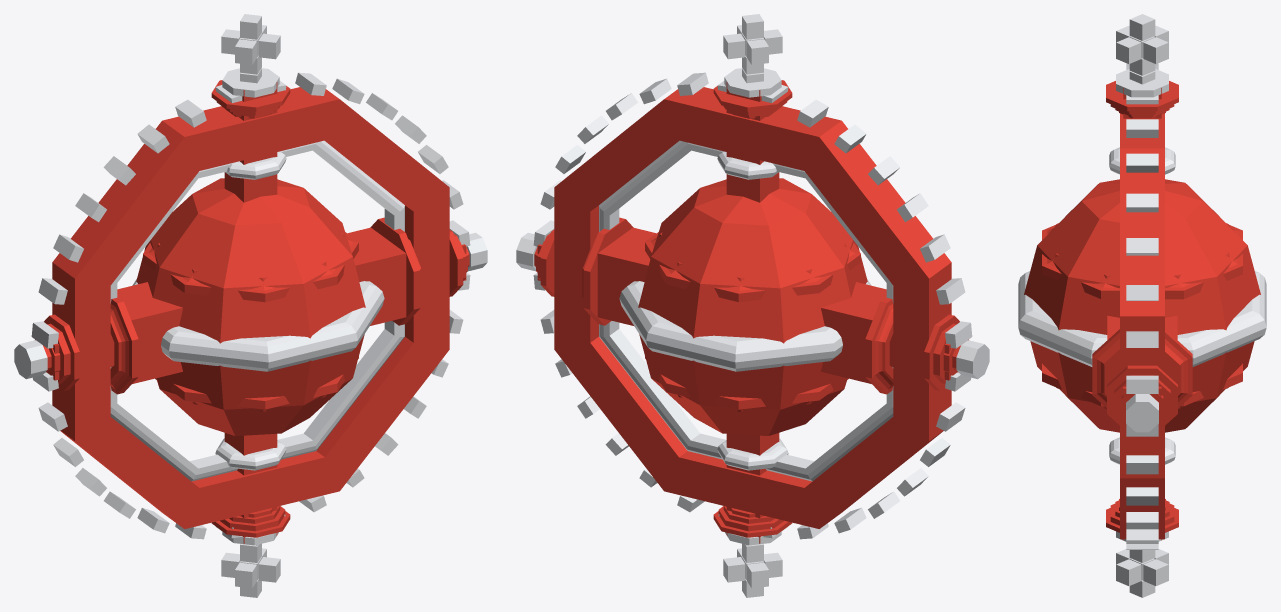
The model's file is king-ornate.glb.
3 views of the same model, side by side, from view 1: azimuth 30°, elevation 25°; view 2: azimuth 150°, elevation 25°; view 3: azimuth 270°, elevation 25° (orthographic).
Visible parts, largest first — view 1: king-ornate; view 2: king-ornate; view 3: king-ornate.
Part boxes in pixels (x1,y1,x2,y2): king-ornate: (14, 14, 487, 597); king-ornate: (516, 14, 989, 597); king-ornate: (1018, 14, 1266, 597).
Bounding box in the file's own units: 0.822 × 0.9882 × 0.388.
